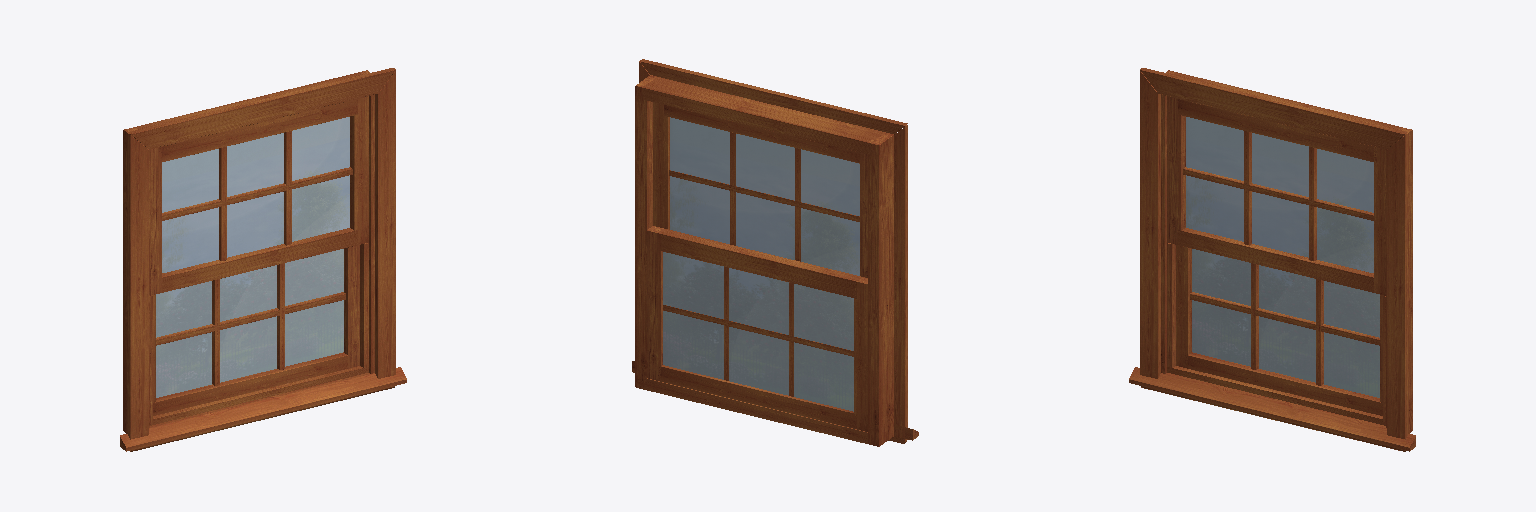
3 views of the same model, side by side, from view 1: azimuth 30°, elevation 25°; view 2: azimuth 150°, elevation 25°; view 3: azimuth 330°, elevation 25° (orthographic).
Parts seen in each view (by area): view 1: glass001, glass, trim_left, trim_right, trim_top, sill, window_bottom001, window_bottom, window_top001, window_right001, stop_bottom, window_right (+11 smaller); view 2: glass, glass001, box_left, box_top, window_top, box_right, trim_left, trim_top, window_bottom, sill, window_right, window_top001 (+9 smaller); view 3: glass001, glass, trim_right, trim_left, trim_top, sill, window_bottom001, window_bottom, window_top001, window_left001, stop_bottom, window_left (+11 smaller).
Boxes of the visible parts, <box> form: glass001: <box>162,117,349,272</box>; glass: <box>156,249,343,397</box>; trim_left: <box>127,133,148,439</box>; trim_right: <box>375,71,395,378</box>; trim_top: <box>128,68,395,148</box>; sill: <box>120,367,406,451</box>; window_bottom001: <box>162,228,357,292</box>; window_bottom: <box>153,352,350,415</box>; window_top001: <box>159,99,357,161</box>; window_right001: <box>350,96,368,244</box>; stop_bottom: <box>150,366,368,425</box>; window_right: <box>344,245,359,368</box>; glass: <box>663,252,853,411</box>; glass001: <box>670,117,859,275</box>; box_left: <box>868,133,893,446</box>; box_top: <box>643,77,885,154</box>; window_top: <box>658,229,862,298</box>; box_right: <box>635,75,656,389</box>; trim_left: <box>894,125,907,438</box>; trim_top: <box>640,59,907,134</box>; window_bottom: <box>658,365,856,428</box>; sill: <box>632,361,918,443</box>; window_right: <box>647,226,663,381</box>; window_top001: <box>664,105,859,163</box>; glass001: <box>1186,117,1373,272</box>; glass: <box>1192,249,1379,397</box>; trim_right: <box>1387,133,1408,439</box>; trim_left: <box>1140,71,1160,378</box>; trim_top: <box>1140,68,1407,148</box>; sill: <box>1129,367,1415,451</box>; window_bottom001: <box>1178,228,1376,292</box>; window_bottom: <box>1185,352,1382,415</box>; window_top001: <box>1178,99,1376,162</box>; window_left001: <box>1167,96,1185,244</box>; stop_bottom: <box>1167,366,1385,425</box>; window_left: <box>1176,245,1191,368</box>.
Size of the model in its own units: 38 by 41.18 by 5.
7 materials, 7 textured.